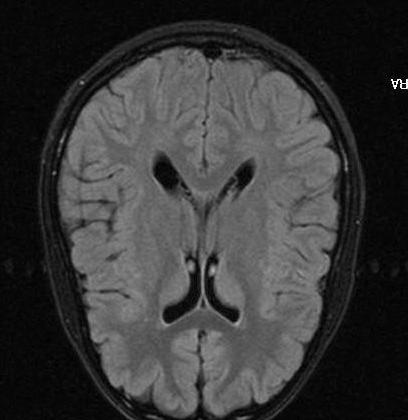Normal_Brain: (1, 1, 408, 420)
